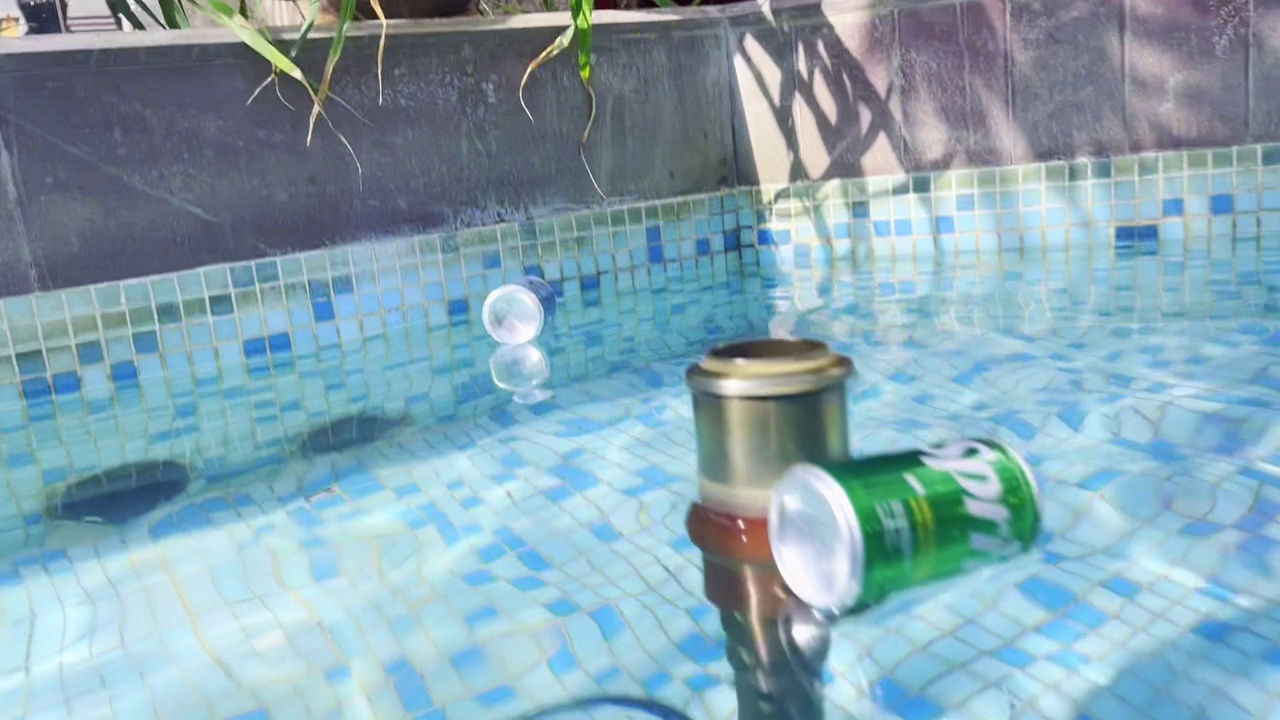debris: (762, 425, 1048, 615), (474, 262, 563, 356)
